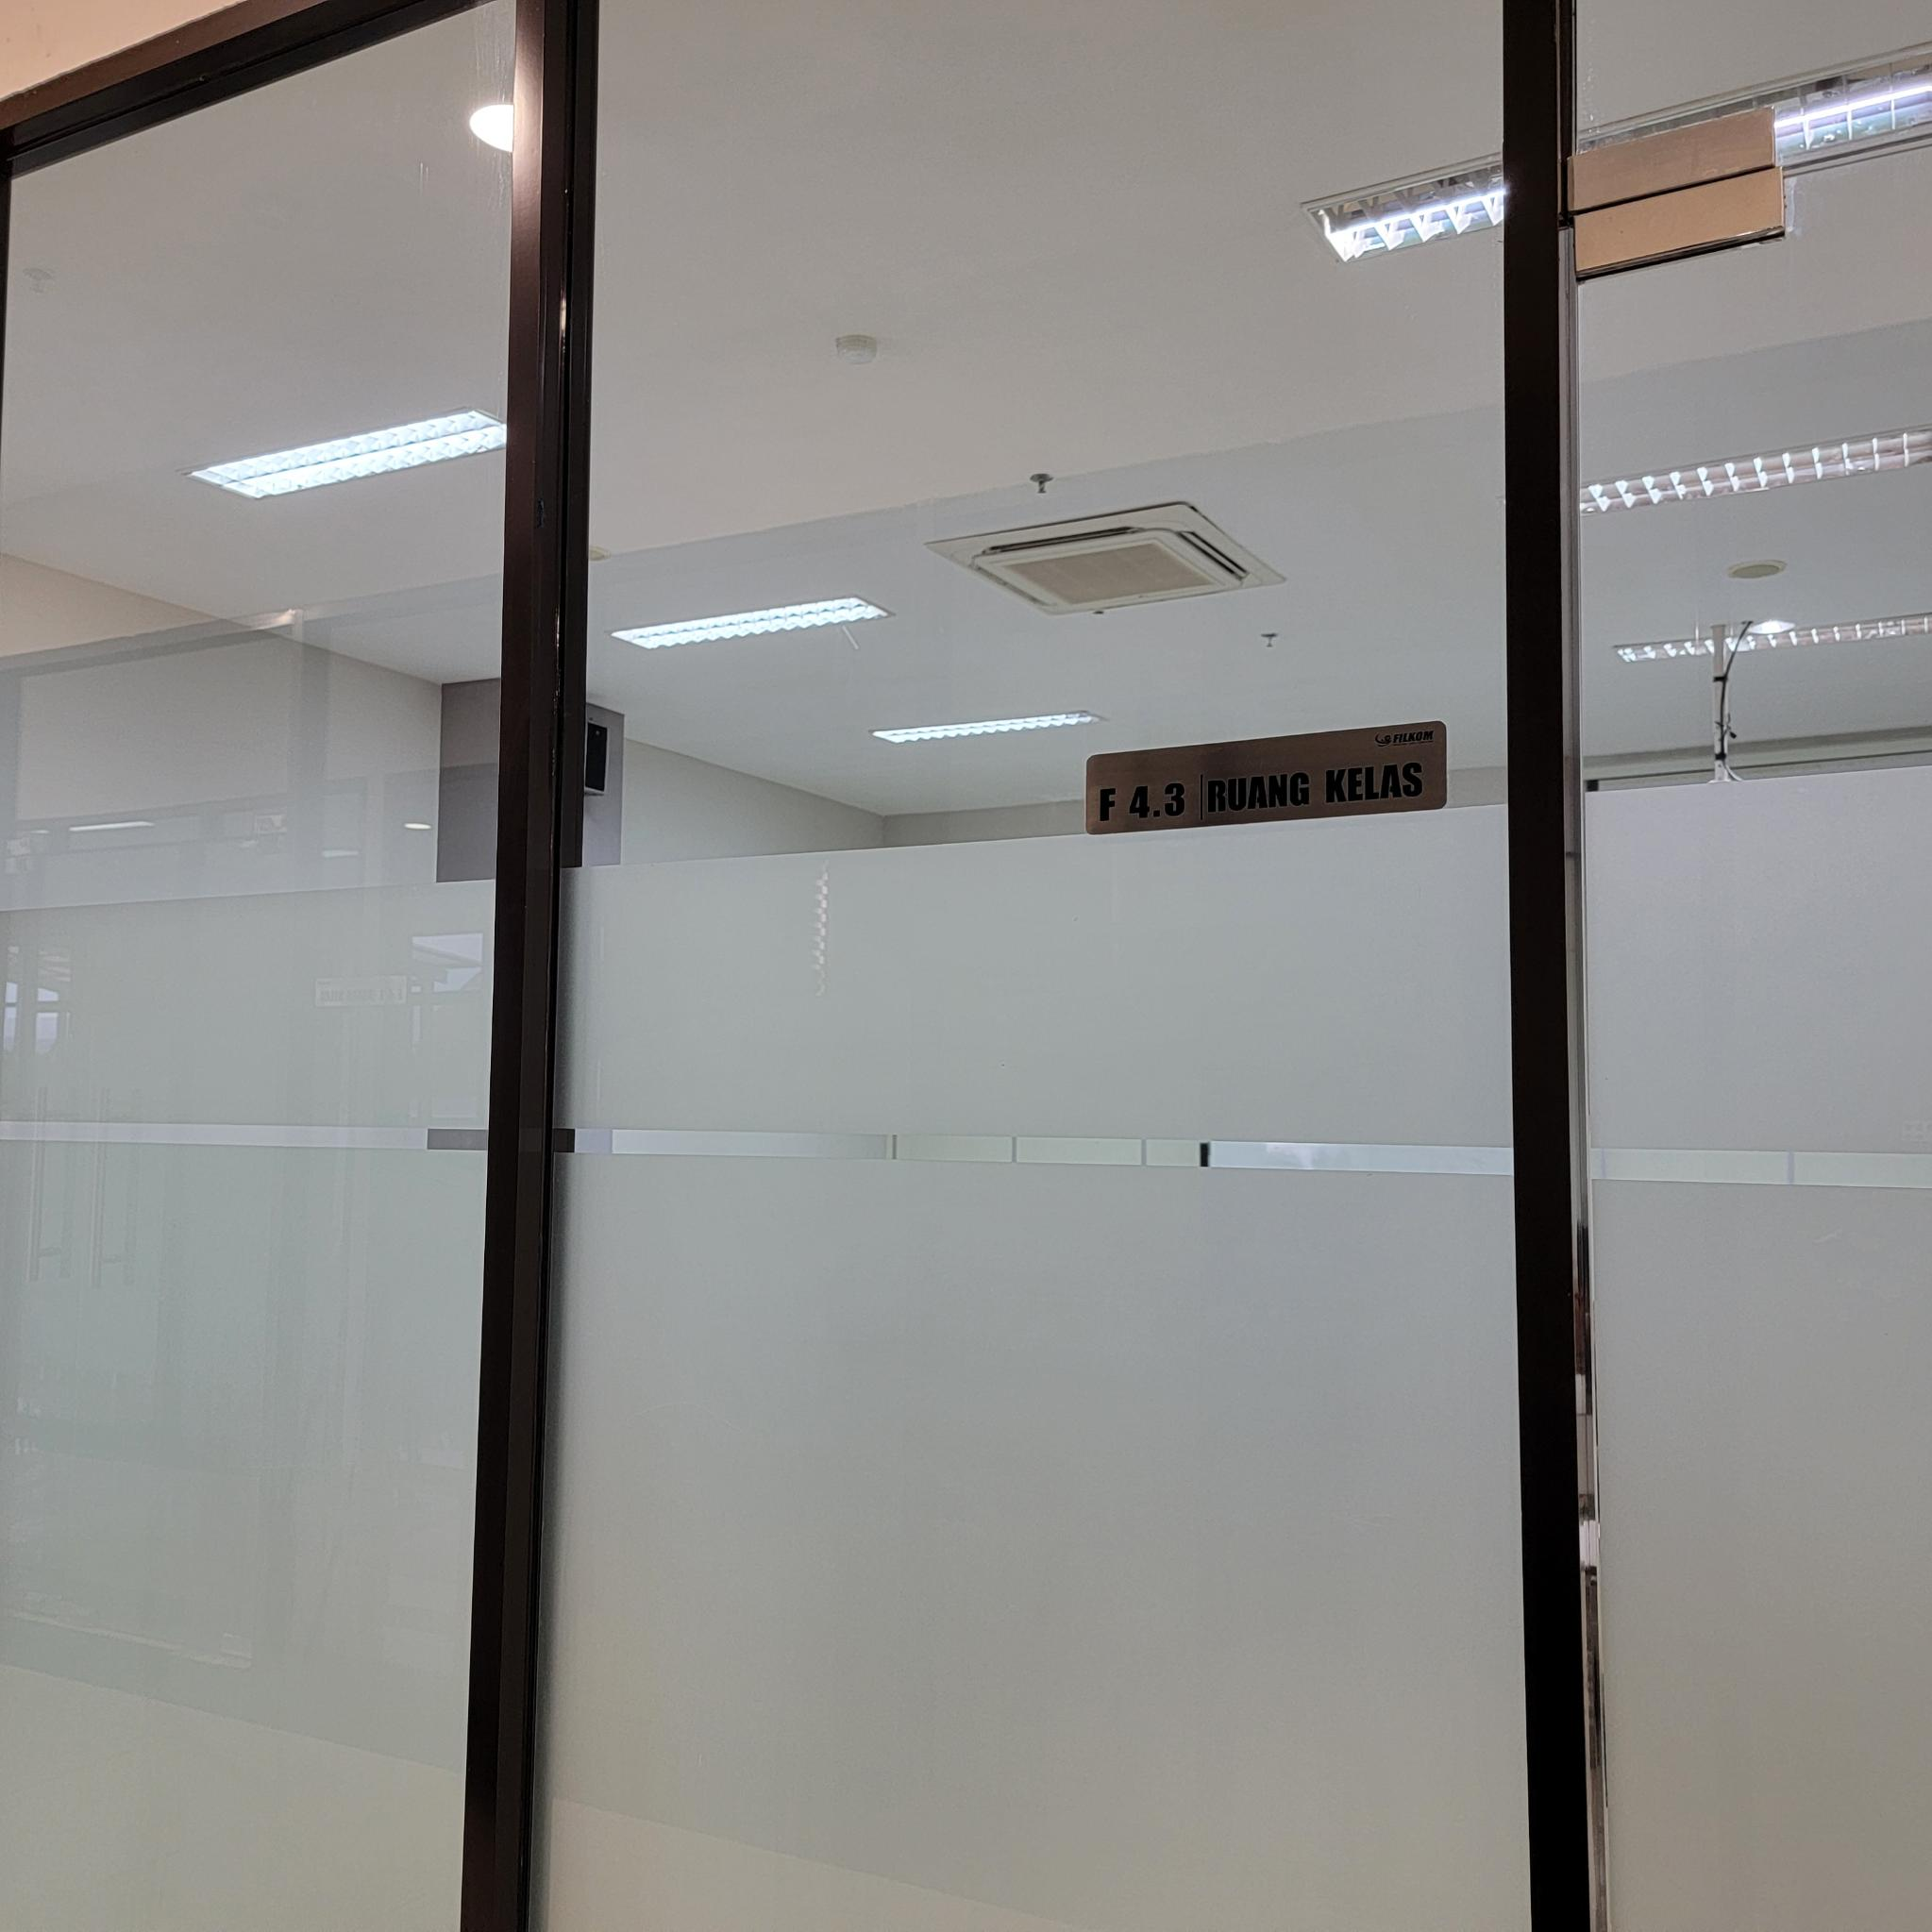plate: (1088, 720, 1449, 835)
